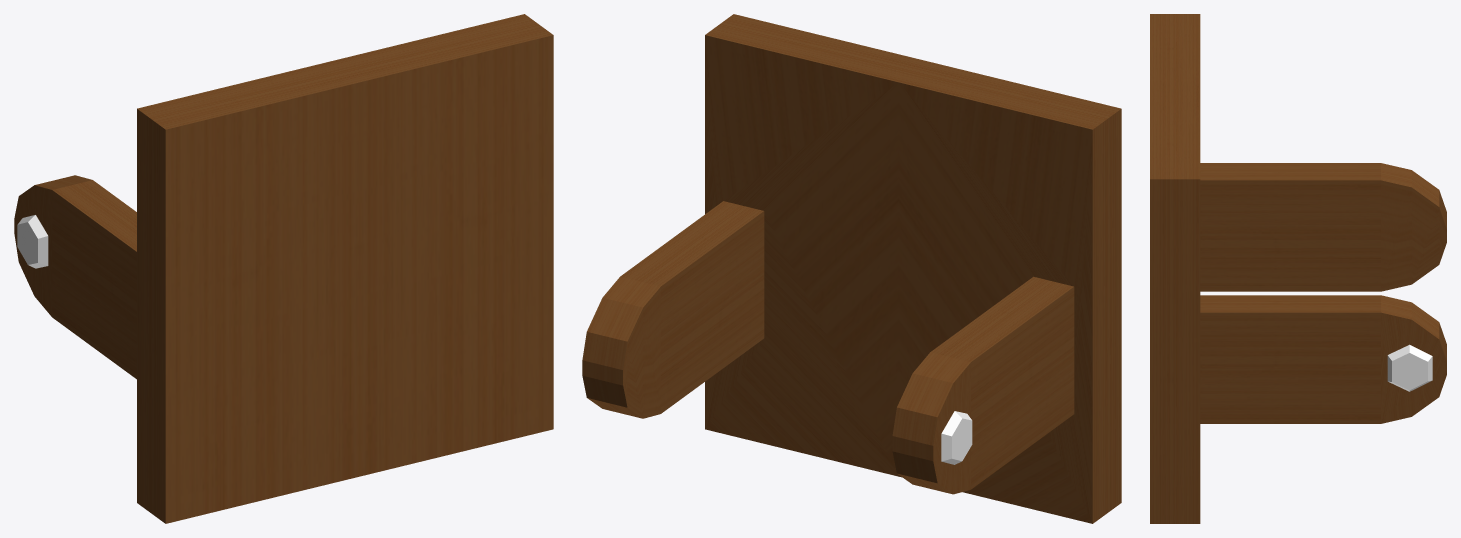
The model's file is cannon_1_base.fbx.
The picture shows the model from 3 angles, left to right: view 1: azimuth 30°, elevation 25°; view 2: azimuth 150°, elevation 25°; view 3: azimuth 270°, elevation 25°; orthographic projection. The views are drawn at different scales.
Visible parts, largest first — view 1: Cube.186; view 2: Cube.186; view 3: Cube.186.
Boxes of the visible parts, left/top/right/bottom form: Cube.186: left=14, top=14, right=553, bottom=523; Cube.186: left=582, top=14, right=1121, bottom=523; Cube.186: left=1150, top=14, right=1446, bottom=523.
Bounding box in the file's own units: 23.31 × 22.64 × 17.68.
